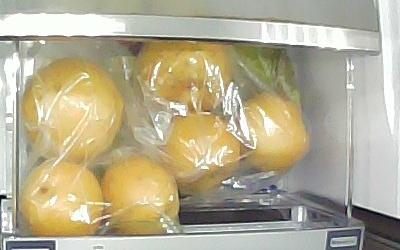pear_vinyl: (21, 56, 122, 161), (19, 159, 103, 235), (102, 157, 179, 234), (138, 42, 229, 106), (166, 113, 238, 193), (236, 92, 308, 171)
